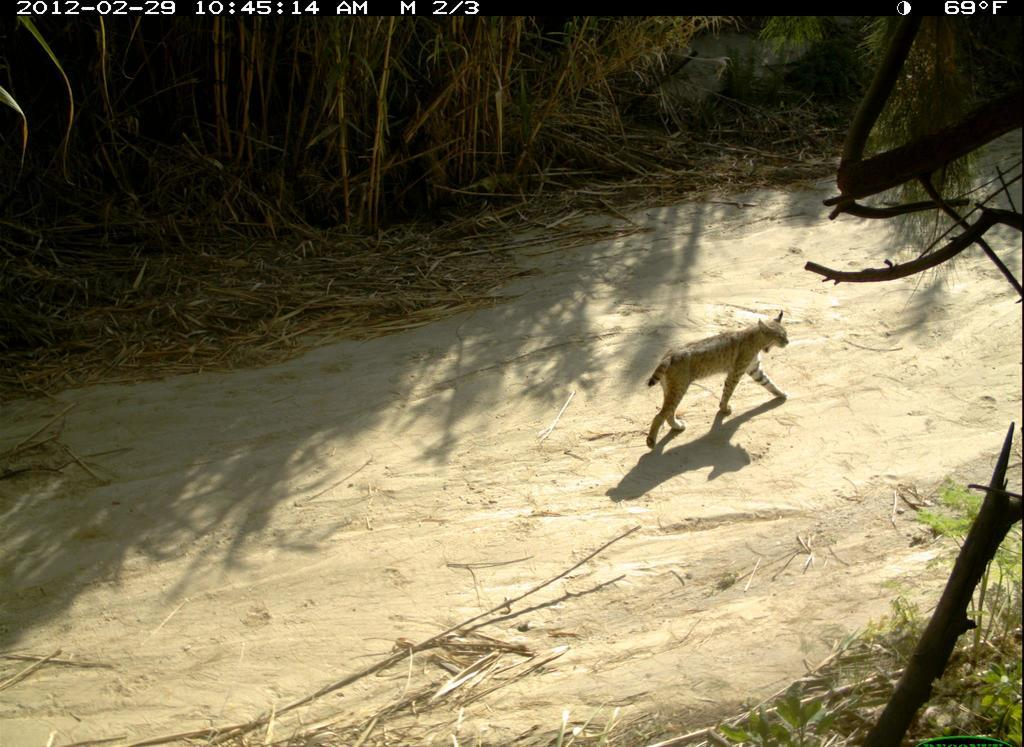bobcat: (646, 313, 799, 463)
